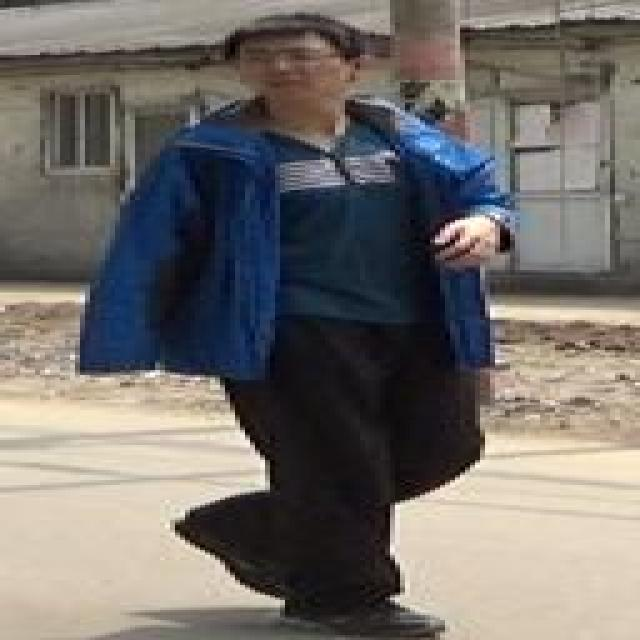adult: (91, 16, 580, 640)
